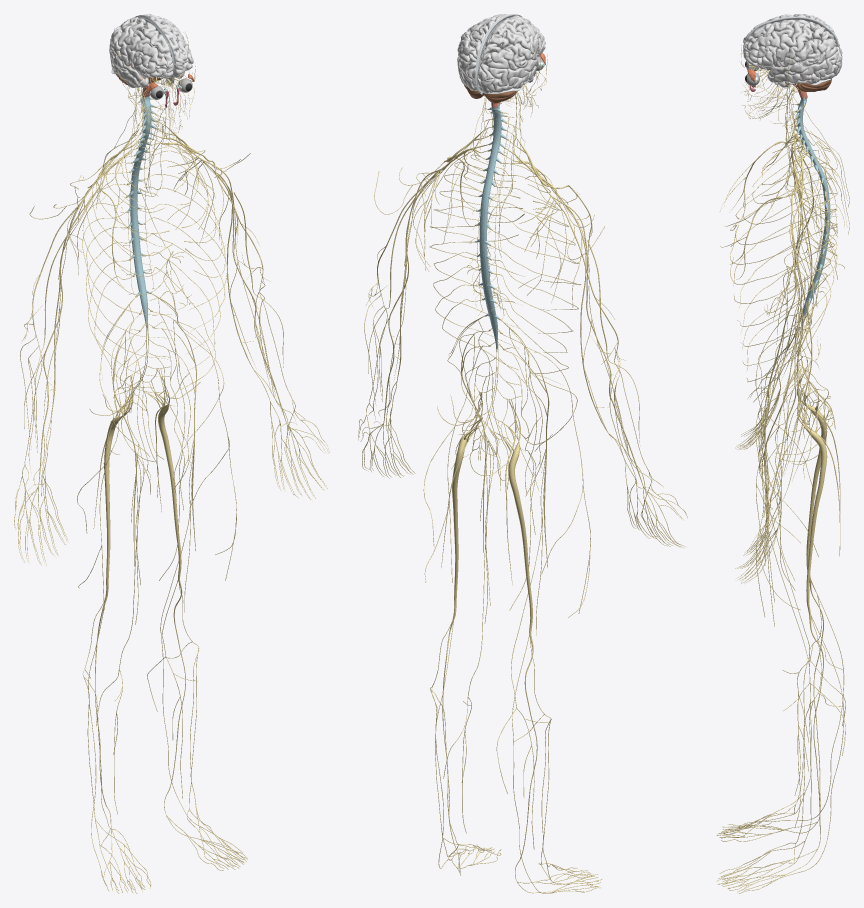
File: nerves.glb
3 renders of one model, left to right at view 1: azimuth 30°, elevation 25°; view 2: azimuth 150°, elevation 25°; view 3: azimuth 270°, elevation 25°, orthographic. The views are drawn at different scales.
Visible parts, largest first — view 1: Spinal dura, Intercostal nerves R, Intercostal nerves L, Sciatic nerve R, Sciatic nerve L, Middle frontal gyrus R; view 2: Spinal dura, Intercostal nerves L, Intercostal nerves R, Sciatic nerve R, Sciatic nerve L, Saphenous nerve R; view 3: Intercostal nerves L, Spinal dura, Intercostal nerves R, Sciatic nerve L, Sciatic nerve R, Middle frontal gyrus L, Saphenous nerve L, Lateral femoral cutaneous nerve L, Median nerve L, Saphenous nerve R, Middle temporal gyrus L, Precentral gyrus L (+17 smaller).
Boxes of the visible parts, x1,y1,x2,y2 form: Spinal dura: (128, 95, 156, 335); Intercostal nerves R: (82, 148, 173, 392); Intercostal nerves L: (141, 143, 227, 389); Sciatic nerve R: (104, 376, 132, 595); Sciatic nerve L: (146, 369, 181, 577); Middle frontal gyrus R: (133, 30, 166, 74); Spinal dura: (476, 104, 507, 352); Intercostal nerves L: (429, 154, 524, 369); Intercostal nerves R: (491, 163, 581, 373); Sciatic nerve R: (495, 400, 532, 632); Sciatic nerve L: (452, 393, 481, 613); Saphenous nerve R: (496, 452, 545, 849); Intercostal nerves L: (730, 153, 837, 382); Spinal dura: (796, 96, 830, 330); Intercostal nerves R: (730, 140, 837, 371); Sciatic nerve L: (797, 384, 827, 612); Sciatic nerve R: (797, 370, 827, 577); Middle frontal gyrus L: (744, 29, 794, 62); Saphenous nerve L: (761, 453, 845, 827); Lateral femoral cutaneous nerve L: (755, 340, 818, 616); Median nerve L: (769, 197, 802, 508); Saphenous nerve R: (762, 423, 845, 795); Middle temporal gyrus L: (773, 60, 827, 82); Precentral gyrus L: (775, 21, 804, 62).
Size of the model in its own units: 0.6674 by 1.69 by 0.2426.
